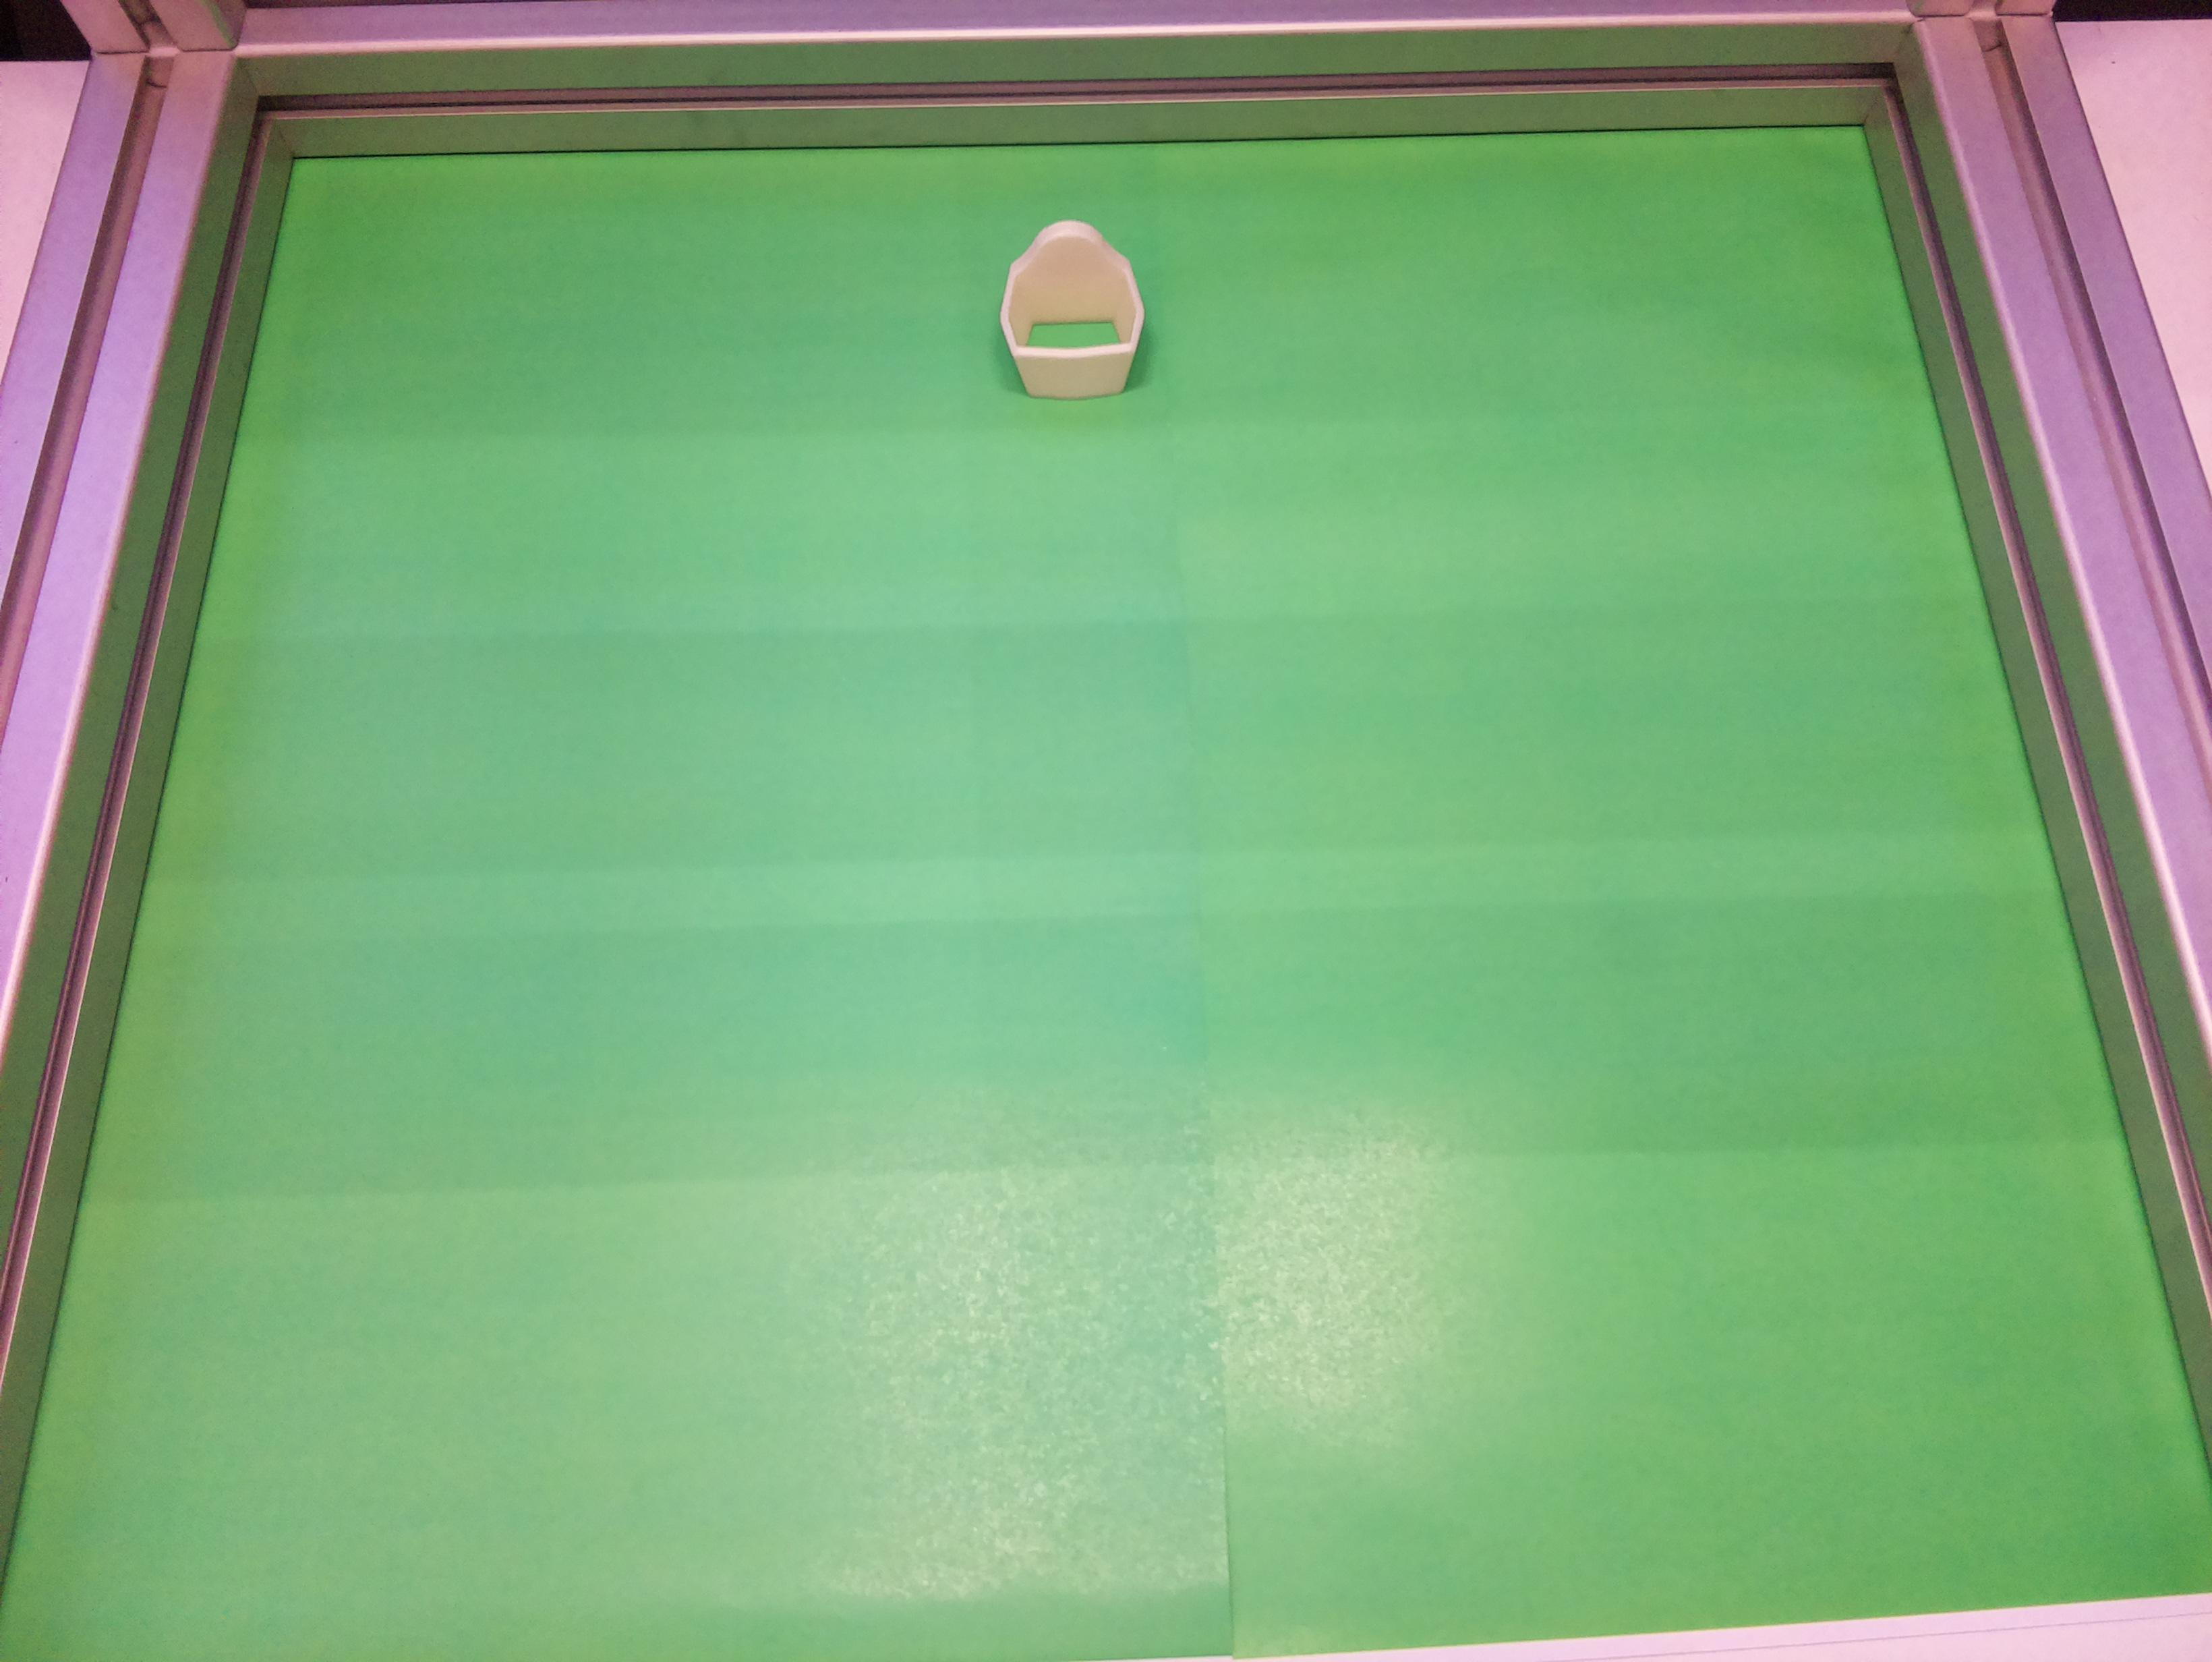tool_holder: (992, 213, 1154, 409)
